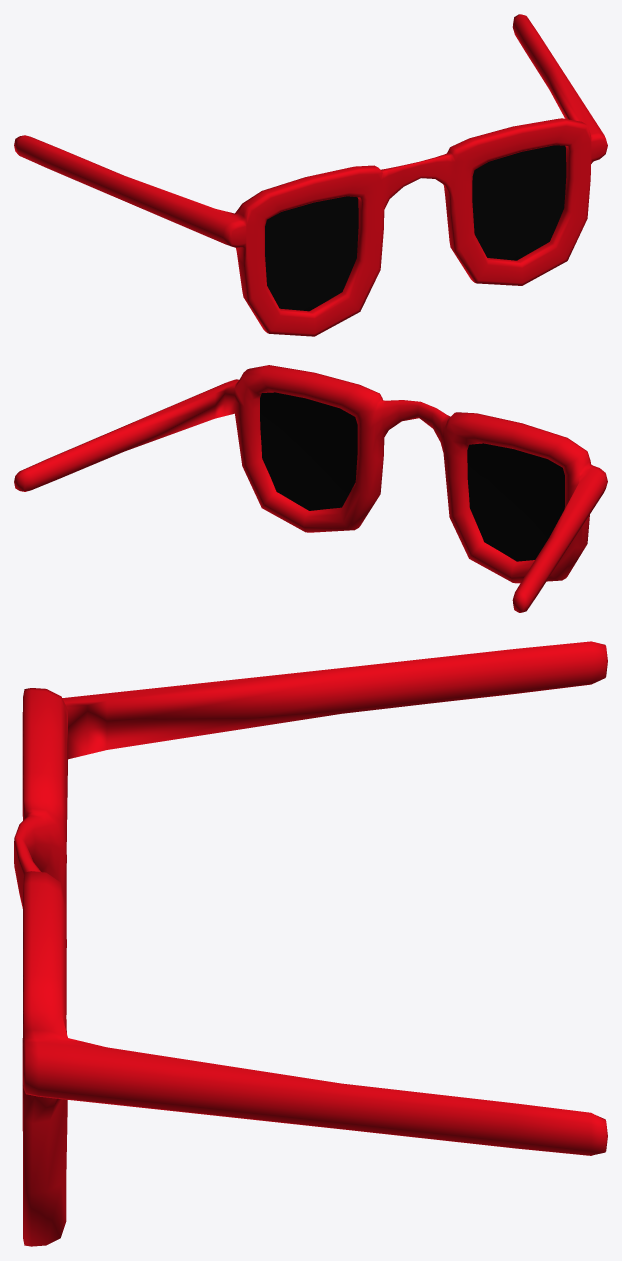
Rendered from glassy-1.glb.
3 views of the same model, one above another, from view 1: azimuth 30°, elevation 25°; view 2: azimuth 150°, elevation 25°; view 3: azimuth 270°, elevation 25° (orthographic). The views are drawn at different scales.
Visible parts, largest first — view 1: glasses; view 2: glasses; view 3: glasses.
Part boxes in pixels (bbox=[...]): glasses: bbox=[14, 14, 607, 336]; glasses: bbox=[14, 365, 607, 612]; glasses: bbox=[14, 641, 607, 1246].
Bounding box in the file's own units: 0.9131 × 0.2677 × 0.471.
